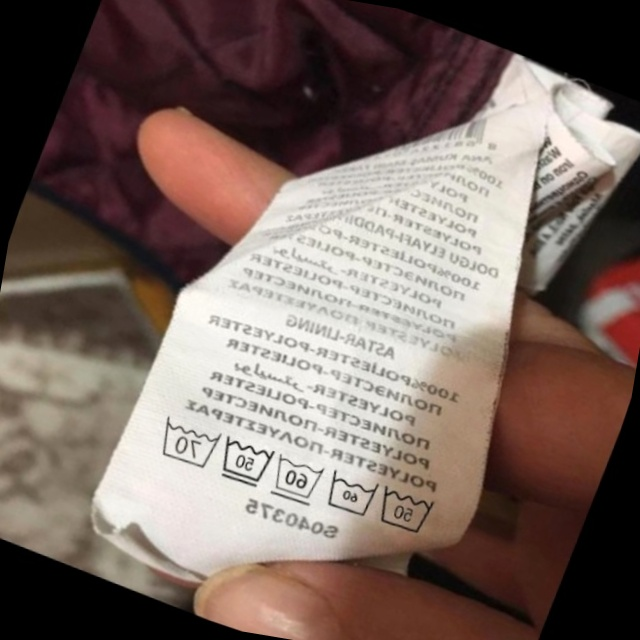50C: (365, 473, 446, 546), (207, 426, 282, 497)
60C: (260, 444, 331, 512), (314, 461, 385, 527)
70C: (145, 407, 226, 476)
